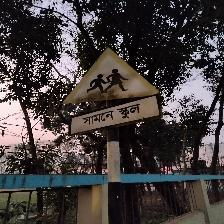School-in-front: (62, 47, 163, 137)
